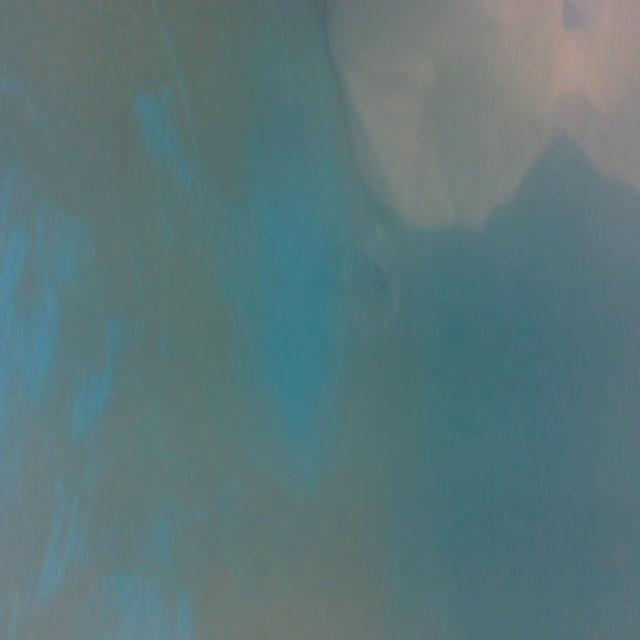plastic bags: (320, 0, 640, 237)
